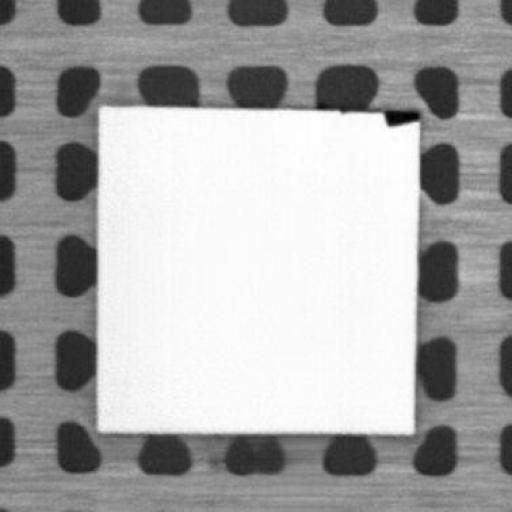DIE_BROKEN: (378, 105, 421, 126)
